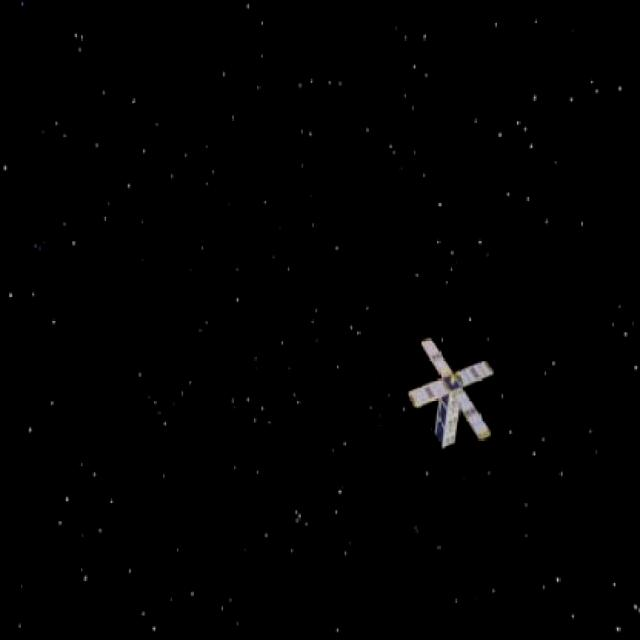satellite: (406, 340, 500, 456)
